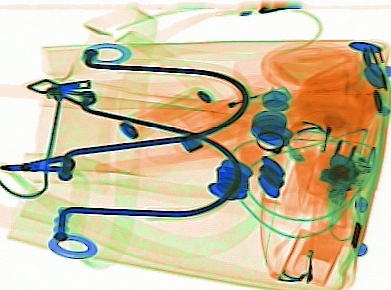lighter: (180, 83, 292, 131)
